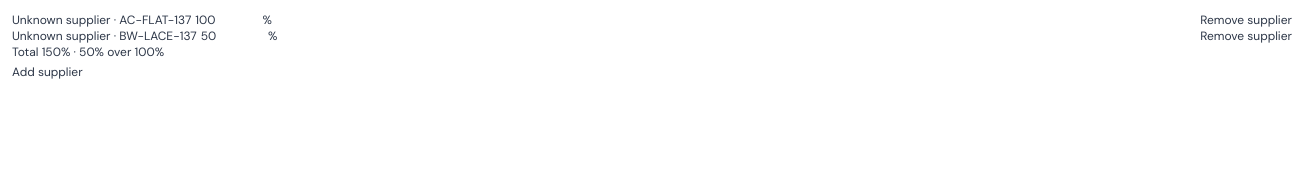
Test: PinEditor › lets a pinned supplier's share be edited where it stands, so a total over 100% can be brought back without removing anyone (owner, walk A5, 2026-09-29)
Check: the text "Total 150% · 50% over 100%" is shown, box left=12, top=44, right=164, bottom=60
Replace the text in the number field named "Share % for AC-FLAT-137" with "50" at {"x": 227, "y": 20}, box left=195, top=12, right=259, bottom=28
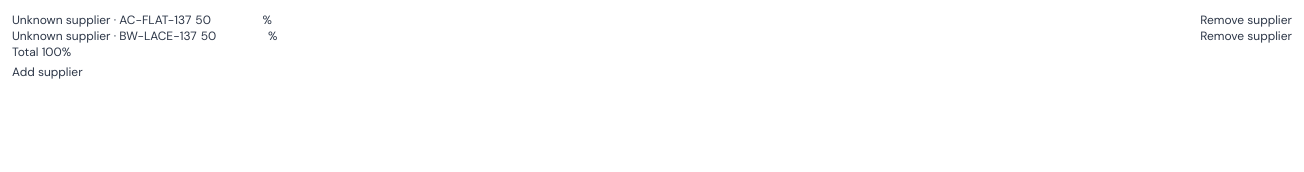
Check: the number field named "Share % for BW-LACE-137" holds "50", box left=201, top=28, right=265, bottom=44
Check: the text "Total 100%" is shown, box left=12, top=44, right=71, bottom=60
